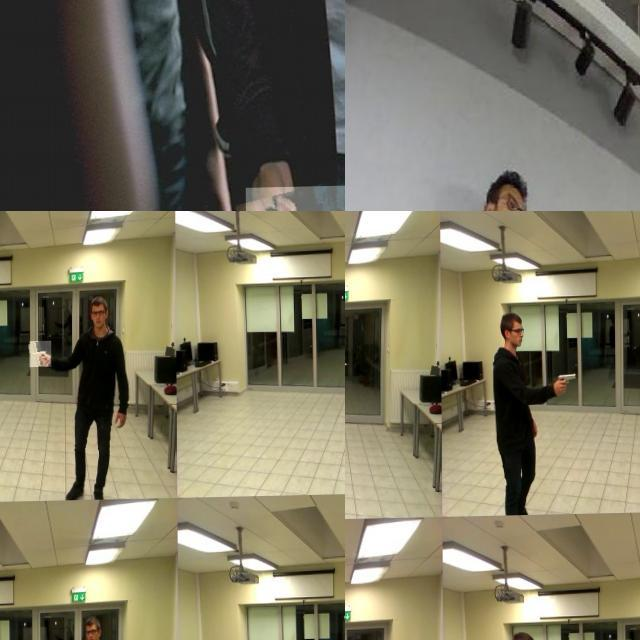gun-knife-thesis - v11 Yolov5 augmented: (553, 373, 577, 400), (29, 342, 51, 368), (345, 354, 354, 374)
